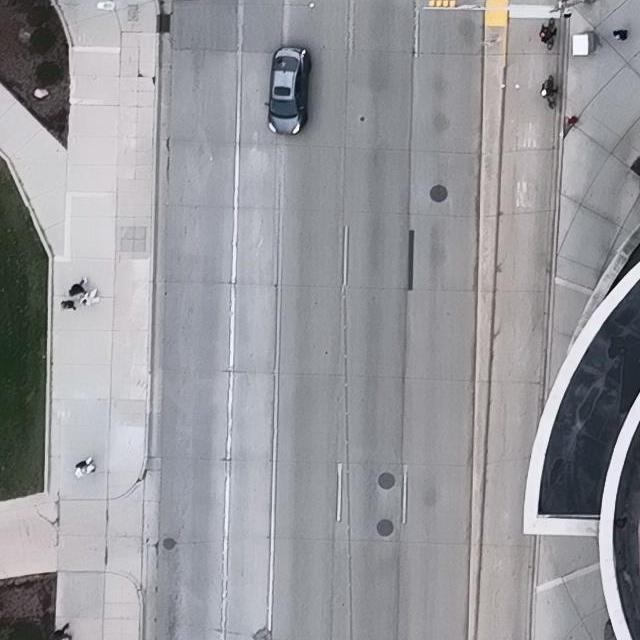car: (264, 45, 312, 136)
